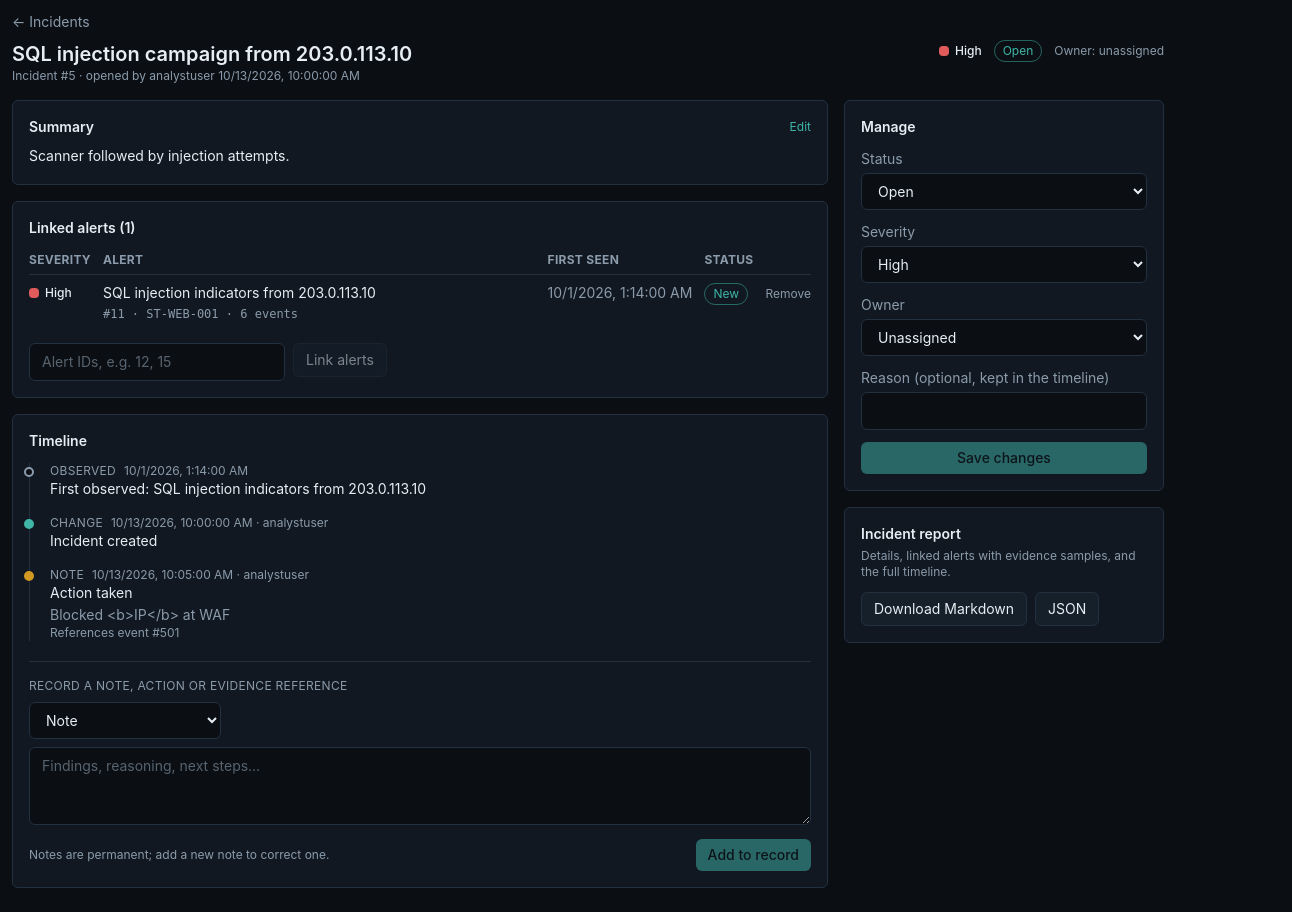
Scenario: IncidentDetailPage › saves only changed fields with the CSRF header
Expected: the button "Save changes" is disabled, [861,442,1147,474]
Select "Contained" in the dropdown labelled "Status". click: (1004, 192)
box: [861,173,1147,210]
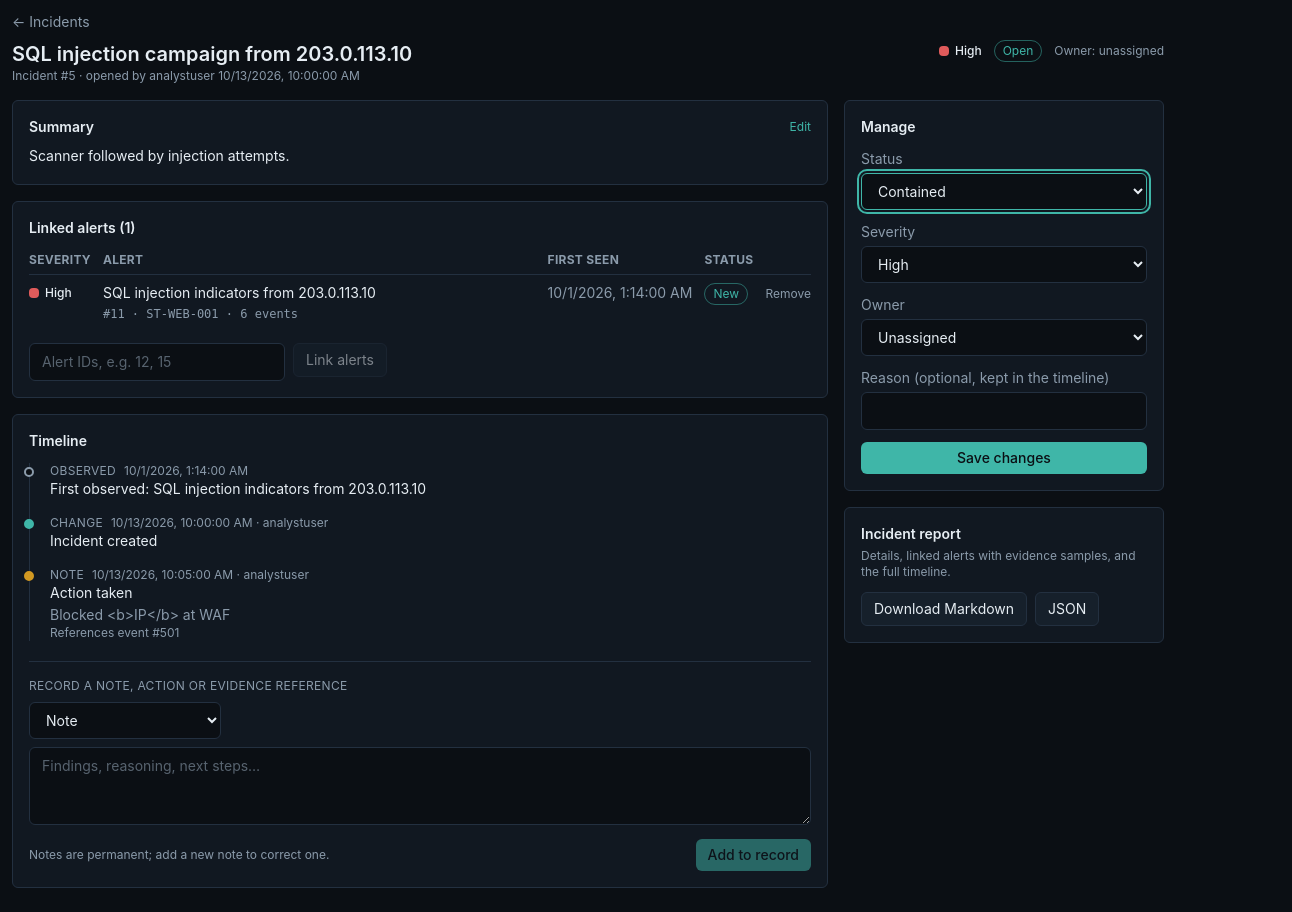
Select "root (admin)" in the dropdown named "Incident owner". click: (1004, 338)
box: [861,319,1147,356]
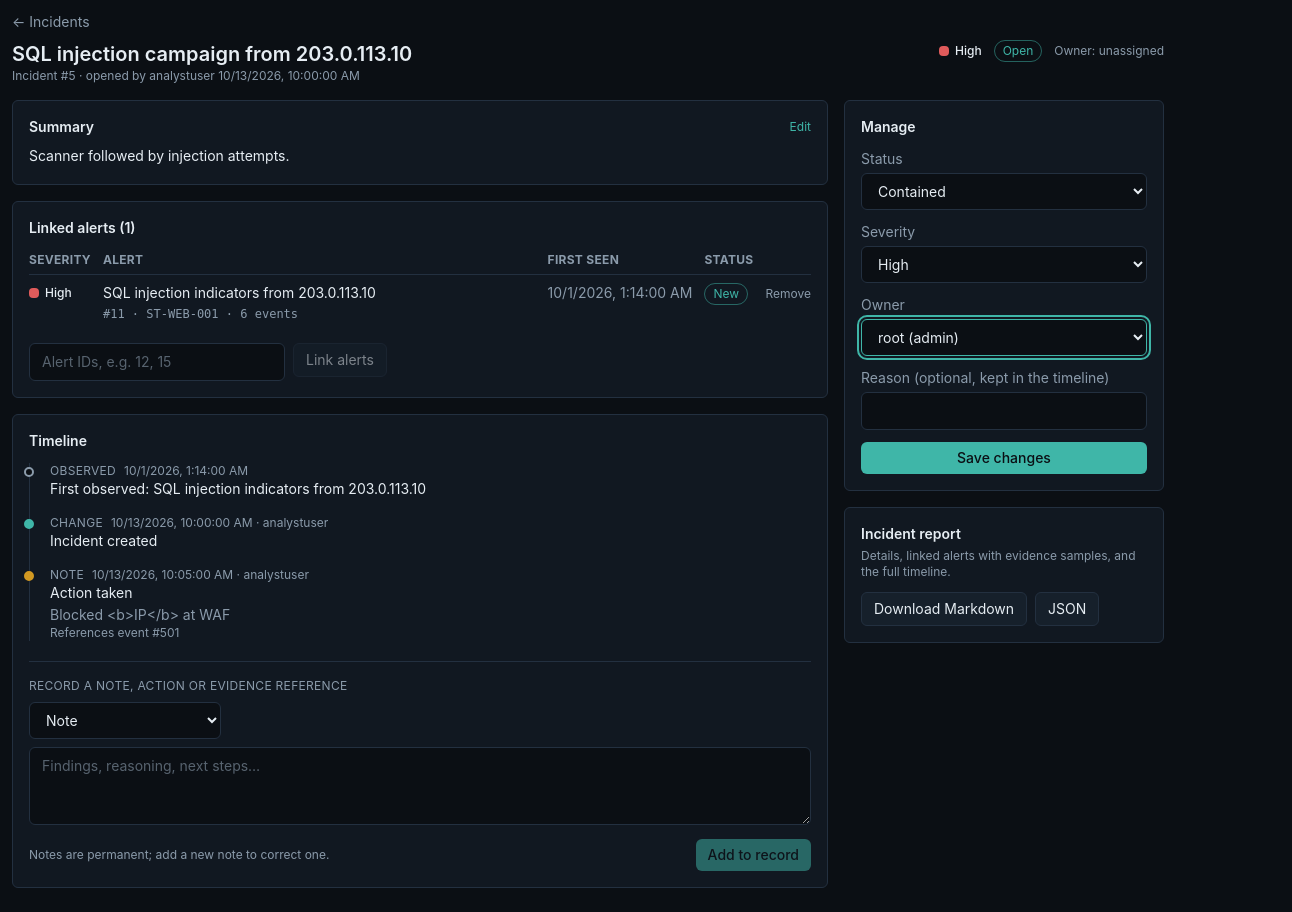
Type "blocked upstream" into the field labelled "Reason (optional, kept in the timeline)". click: (1004, 411)
box: [861,392,1147,430]
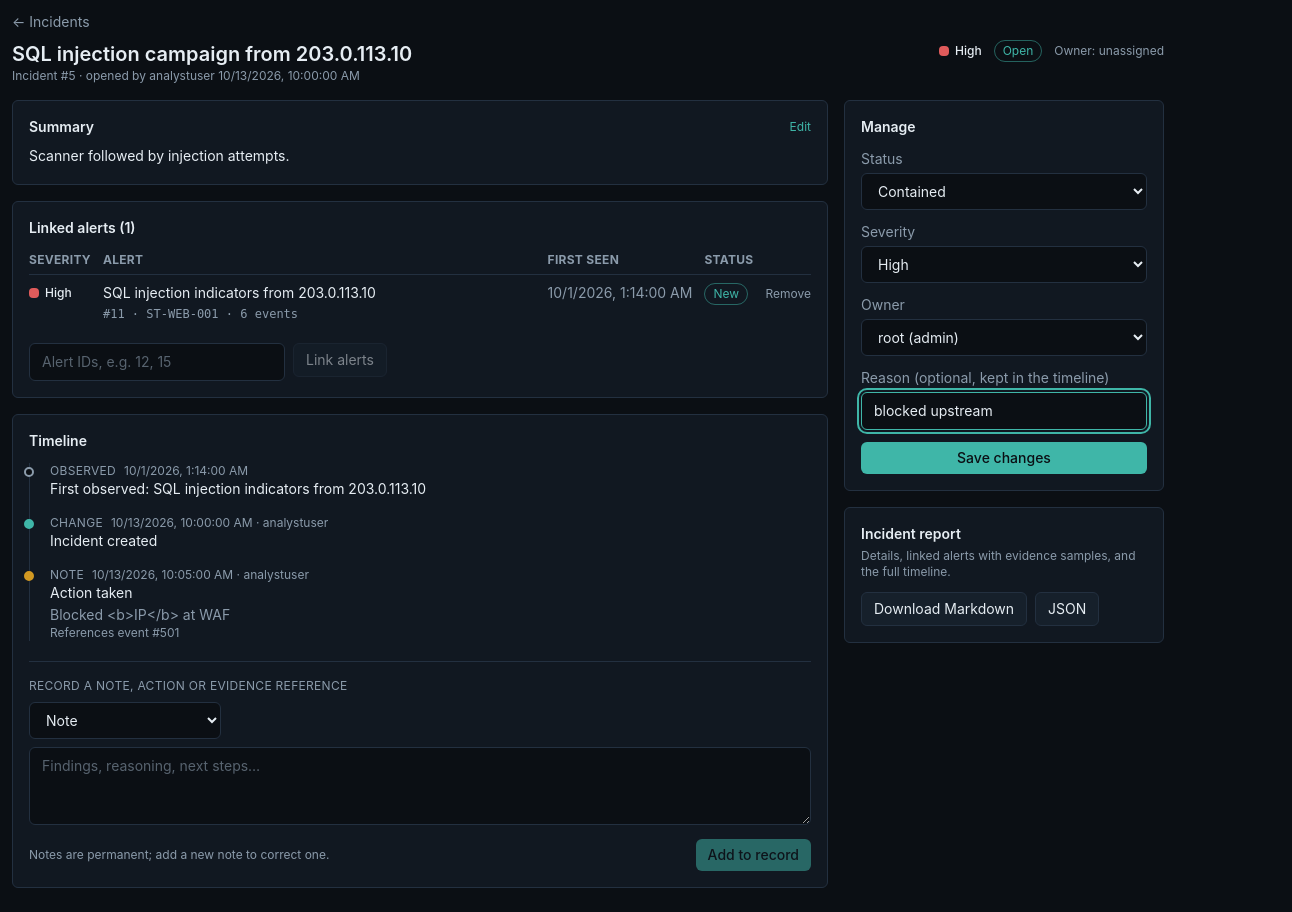
Click the button "Save changes". click: (1004, 458)
box: [861,442,1147,474]
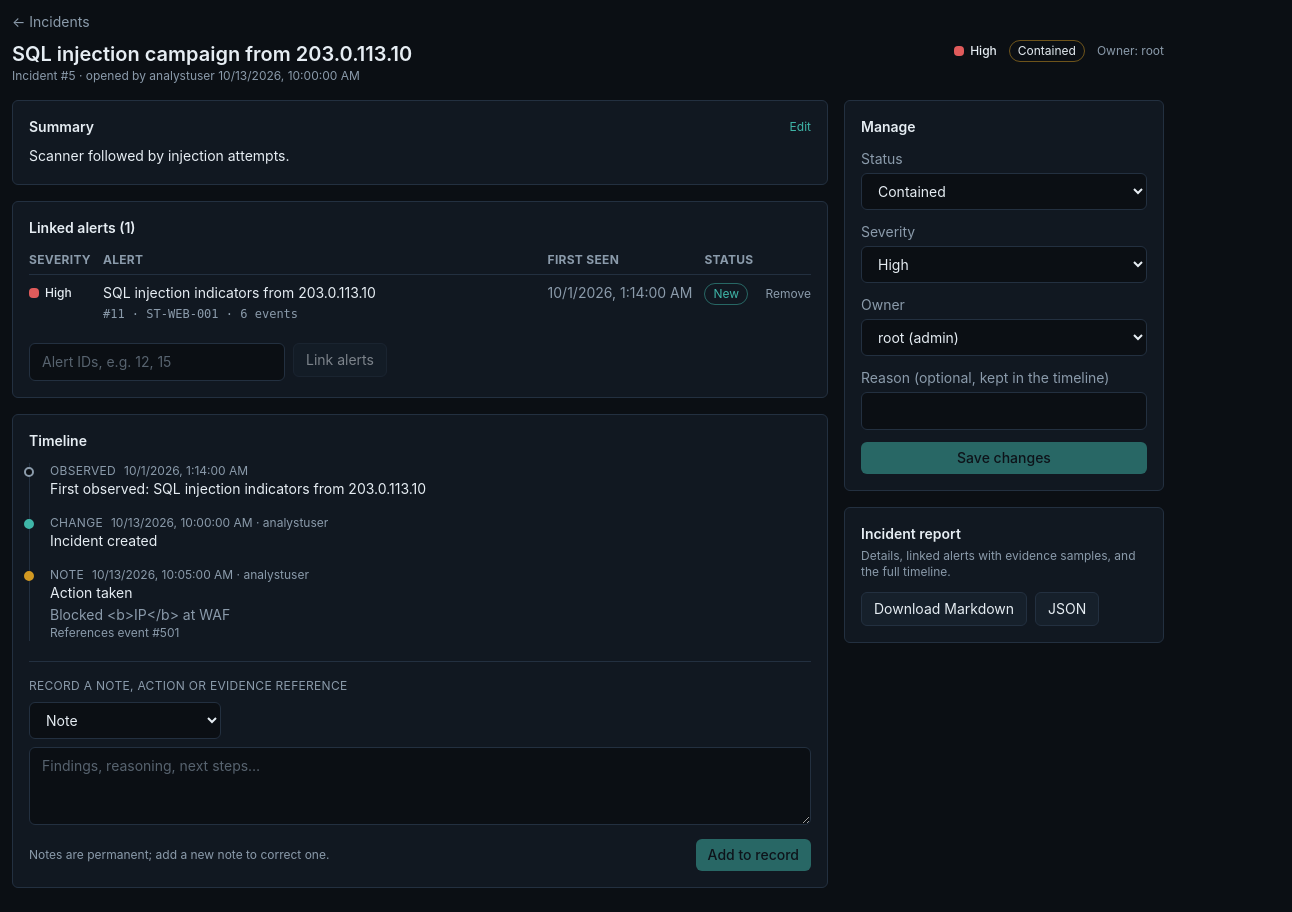
Expected: the text "Owner: root" is shown, [1097,43,1164,59]
